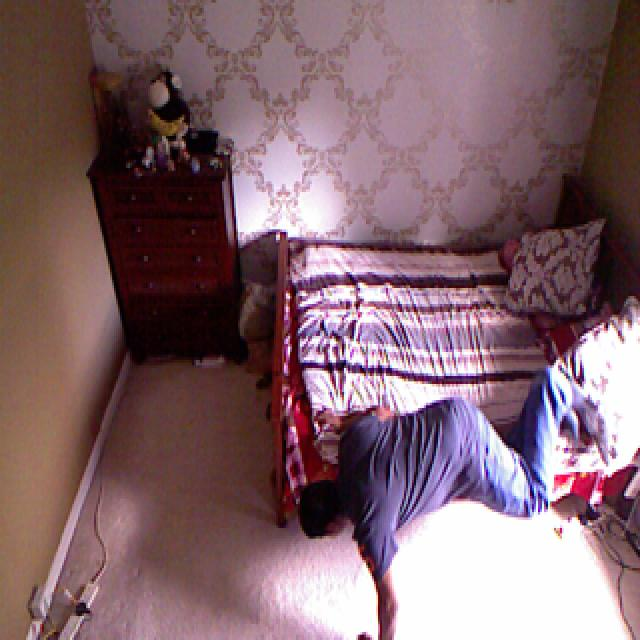crawling: (286, 366, 599, 640)
